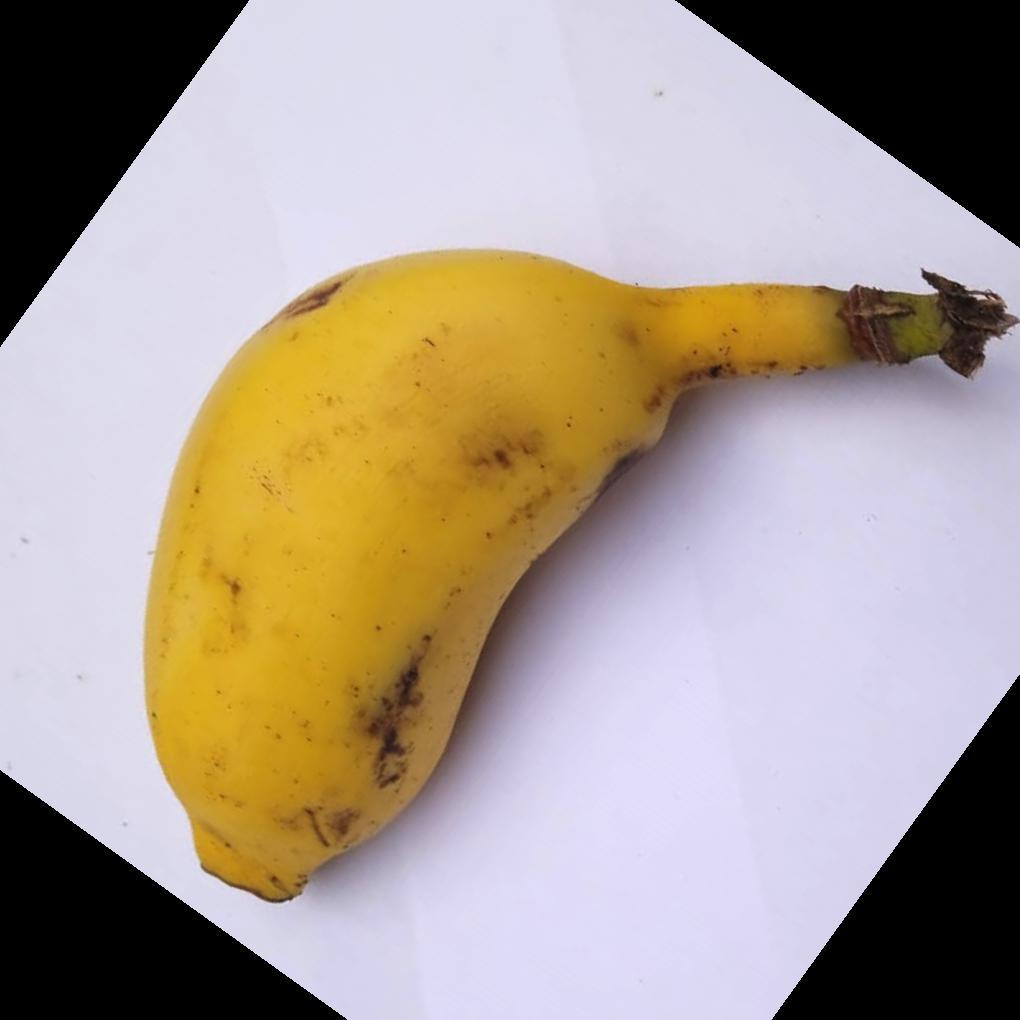Banana Ripe: (141, 174, 982, 930)
